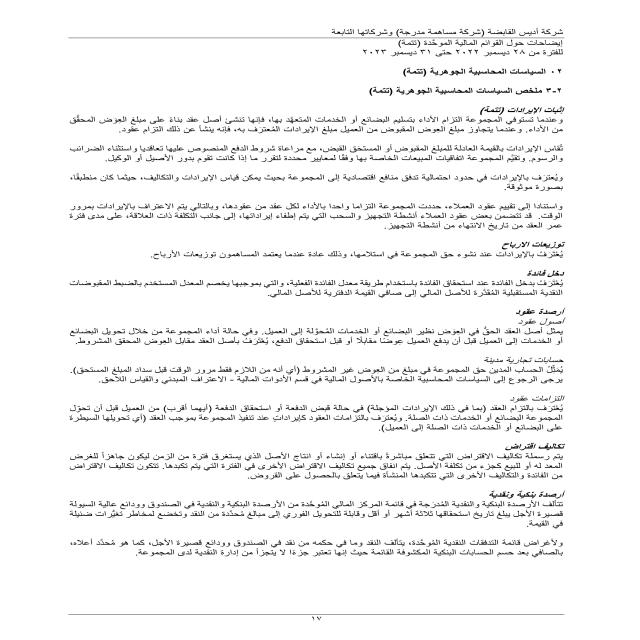notes: (388, 37, 564, 50)
text: (31, 78, 572, 575)
